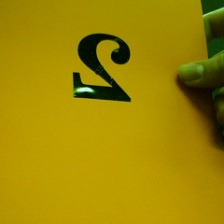orange2: (66, 29, 139, 108)
